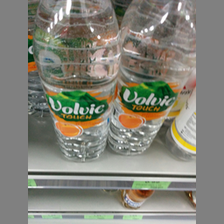water: (32, 1, 122, 163), (110, 1, 195, 154)
